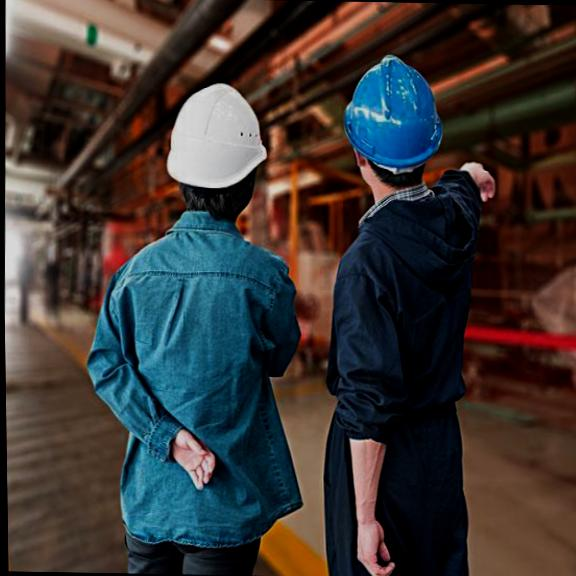no_safety_vest: (94, 207, 297, 542), (308, 174, 490, 459)
